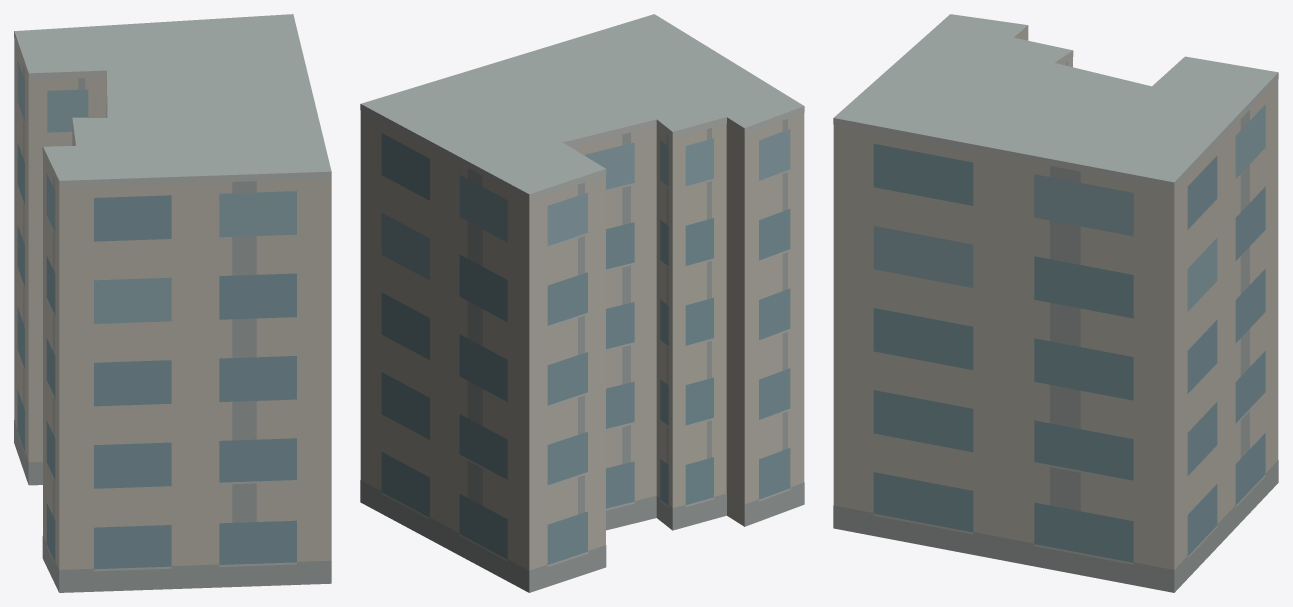
The model's file is survey-upis-32460661.glb.
3 views of the same model, side by side, from view 1: azimuth 30°, elevation 25°; view 2: azimuth 150°, elevation 25°; view 3: azimuth 270°, elevation 25° (orthographic). The views are drawn at different scales.
Visible parts, largest first — view 1: survey-upis-32460661.tmp; view 2: survey-upis-32460661.tmp; view 3: survey-upis-32460661.tmp.
Boxes of the visible parts, x1,y1,x2,y2 form: survey-upis-32460661.tmp: (14, 14, 331, 592); survey-upis-32460661.tmp: (360, 14, 804, 592); survey-upis-32460661.tmp: (833, 14, 1278, 592).
Size of the model in its own units: 12.84 by 14.58 by 14.34.
